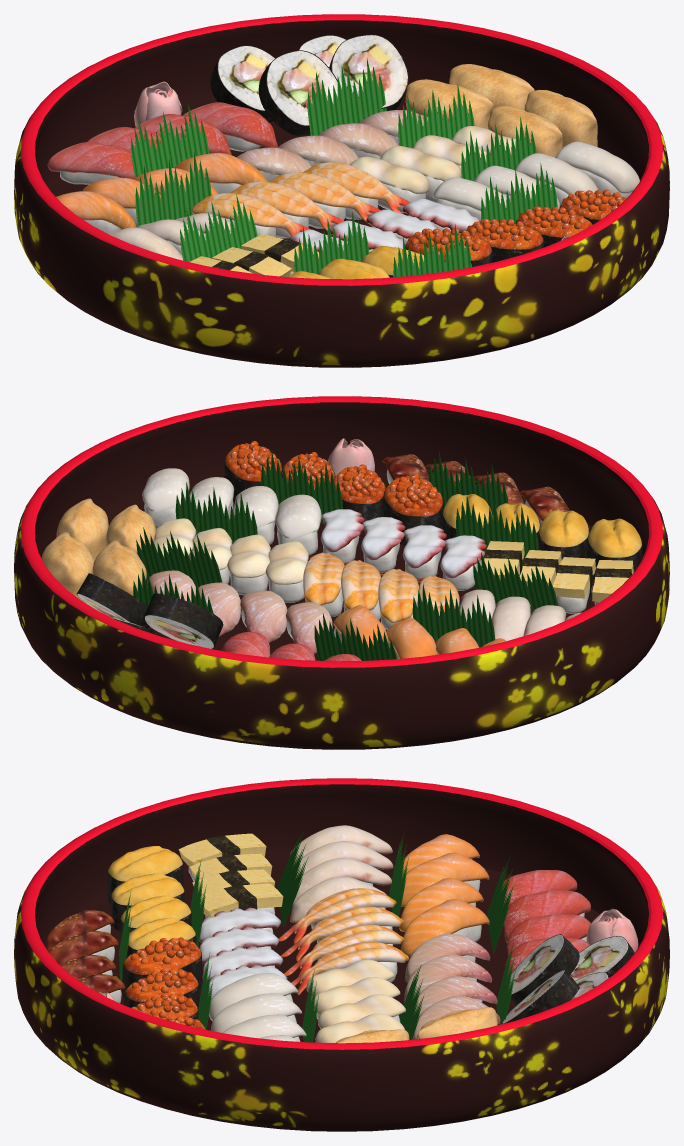
File: u_sushiset_D.fbx
3 renders of one model, top to bottom at view 1: azimuth 30°, elevation 25°; view 2: azimuth 150°, elevation 25°; view 3: azimuth 270°, elevation 25°, orthographic.
Visible parts, largest first — view 1: sushioke_syaku1.001, Sushi_rolls.003, Sushi_rolls.004, baran.010, Sushi_rolls.001, baran.017, baran.007, Tuna.007, baran.014, Tuna.008, Squid.010, Inarizushi.003 (+44 smaller); view 2: sushioke_syaku1.001, Sushi_rolls.003, Salmon_roe.010, baran.018, baran.017, baran.014, baran.012, baran.015, baran.013, Sea_urchin.001, Scallop.008, baran.007 (+48 smaller); view 3: sushioke_syaku1.001, Salmon.010, Salmon_roe.010, Sushi_rolls.003, Salmon.008, Sea_urchin.001, Tuna.009, Shrimp.007, Shrimp.010, Shrimp.009, egg.007, Sea_urchin.002 (+49 smaller).
Boxes of the visible parts, x1=… form: sushioke_syaku1.001: x1=14, y1=14, x2=669, y2=367; Sushi_rolls.003: x1=258, y1=50, x2=337, y2=135; Sushi_rolls.004: x1=329, y1=34, x2=408, y2=110; baran.010: x1=307, y1=58, x2=386, y2=135; Sushi_rolls.001: x1=210, y1=45, x2=275, y2=122; baran.017: x1=135, y1=152, x2=211, y2=226; baran.007: x1=131, y1=104, x2=209, y2=177; Tuna.007: x1=47, y1=142, x2=134, y2=184; baran.014: x1=180, y1=194, x2=257, y2=261; Tuna.008: x1=183, y1=102, x2=278, y2=151; Squid.010: x1=555, y1=141, x2=639, y2=197; Inarizushi.003: x1=524, y1=89, x2=597, y2=147; sushioke_syaku1.001: x1=14, y1=396, x2=669, y2=749; Sushi_rolls.003: x1=144, y1=593, x2=223, y2=649; Salmon_roe.010: x1=383, y1=473, x2=443, y2=545; baran.018: x1=136, y1=527, x2=222, y2=587; baran.017: x1=412, y1=583, x2=495, y2=647; baran.014: x1=473, y1=552, x2=558, y2=612; baran.012: x1=261, y1=450, x2=342, y2=523; baran.015: x1=175, y1=482, x2=257, y2=543; baran.013: x1=456, y1=495, x2=538, y2=567; Sea_urchin.001: x1=587, y1=518, x2=642, y2=578; Scallop.008: x1=227, y1=534, x2=270, y2=595; baran.007: x1=314, y1=613, x2=396, y2=660; sushioke_syaku1.001: x1=14, y1=778, x2=669, y2=1131; Salmon.010: x1=401, y1=899, x2=489, y2=956; Salmon_roe.010: x1=122, y1=937, x2=201, y2=996; Sushi_rolls.003: x1=509, y1=934, x2=579, y2=1005; Salmon.008: x1=401, y1=852, x2=489, y2=906; Sea_urchin.001: x1=107, y1=846, x2=183, y2=903; Tuna.009: x1=503, y1=890, x2=590, y2=942; Shrimp.007: x1=291, y1=942, x2=408, y2=995; Shrimp.010: x1=279, y1=888, x2=396, y2=944; Shrimp.009: x1=281, y1=906, x2=403, y2=961; egg.007: x1=200, y1=883, x2=283, y2=918; Sea_urchin.002: x1=111, y1=873, x2=184, y2=931.
Bounding box in the file's own units: 4.35 × 0.6315 × 4.35.
Materials: 4 (4 with a texture image).
